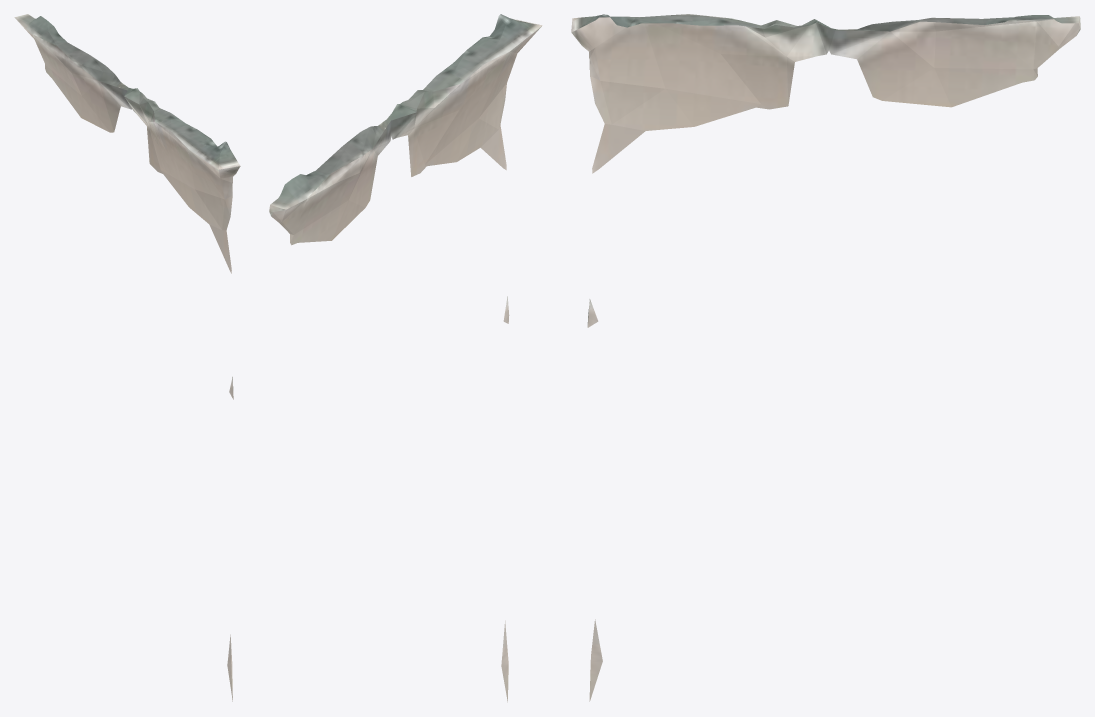
File: Tile_+011_+009_L20_000000340.glb
The picture shows the model from 3 angles, left to right: view 1: azimuth 30°, elevation 25°; view 2: azimuth 150°, elevation 25°; view 3: azimuth 270°, elevation 25°; orthographic projection. The views are drawn at different scales.
Visible parts, largest first — view 1: rtc; view 2: rtc; view 3: rtc.
Part boxes in pixels (left/top/right/bottom): rtc: left=14, top=14, right=240, bottom=701; rtc: left=269, top=14, right=542, bottom=702; rtc: left=571, top=14, right=1080, bottom=701.
Size of the model in its own units: 1.07 by 24.6 by 16.5.
Materials: 1 (1 with a texture image).
